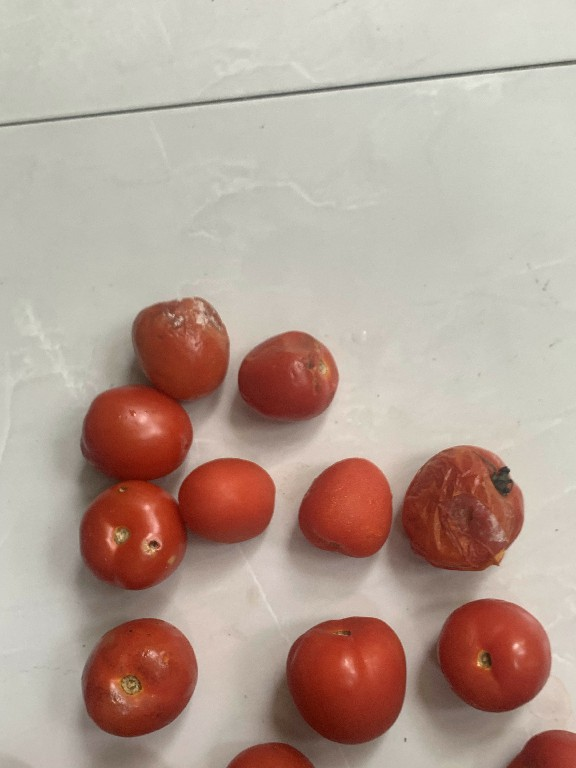NG: (399, 439, 530, 572), (74, 476, 191, 594), (127, 293, 231, 401), (236, 323, 340, 424)
OK: (281, 610, 408, 747), (79, 612, 202, 742), (432, 590, 554, 716), (77, 382, 195, 481), (295, 452, 396, 564), (174, 457, 282, 544)
